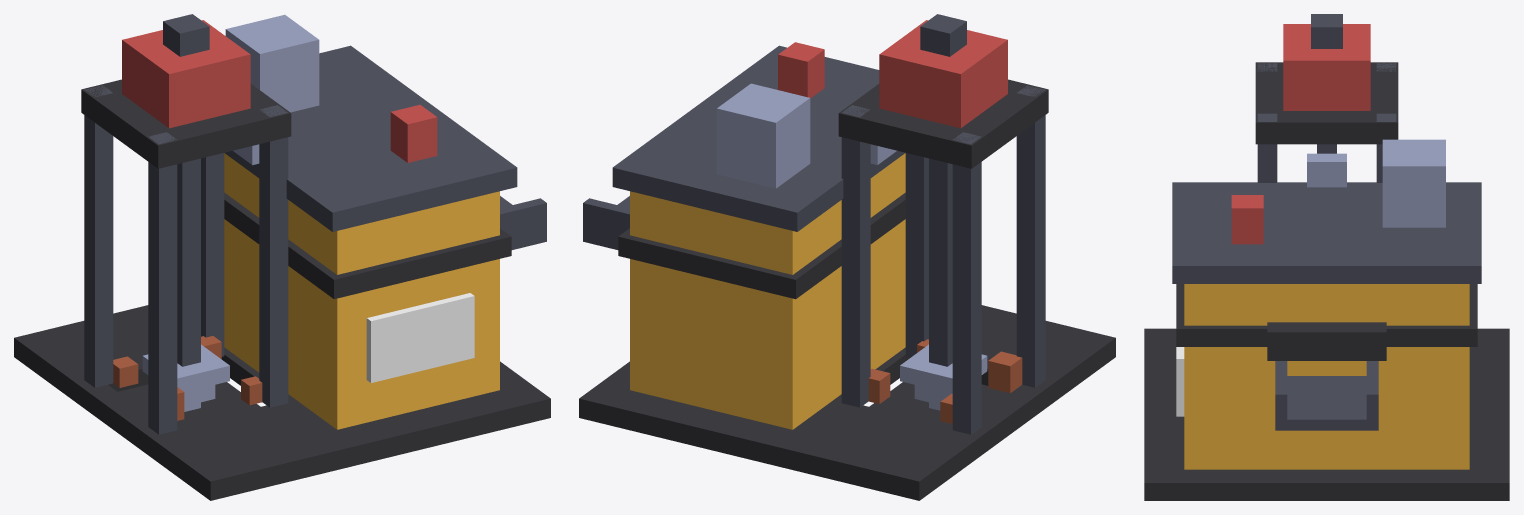
Rendered from dropper.obj.
3 views of the same model, side by side, from view 1: azimuth 30°, elevation 25°; view 2: azimuth 150°, elevation 25°; view 3: azimuth 270°, elevation 25° (orthographic). The views are drawn at different scales.
Visible parts, largest first — view 1: dropper; view 2: dropper; view 3: dropper.
Part boxes in pixels (x1,y1,x2,y2): dropper: [14, 14, 550, 500]; dropper: [579, 14, 1115, 500]; dropper: [1144, 14, 1509, 500].
Bounding box in the file's own units: 1.1 × 1 × 0.92.
Materials: 1 (1 with a texture image).
